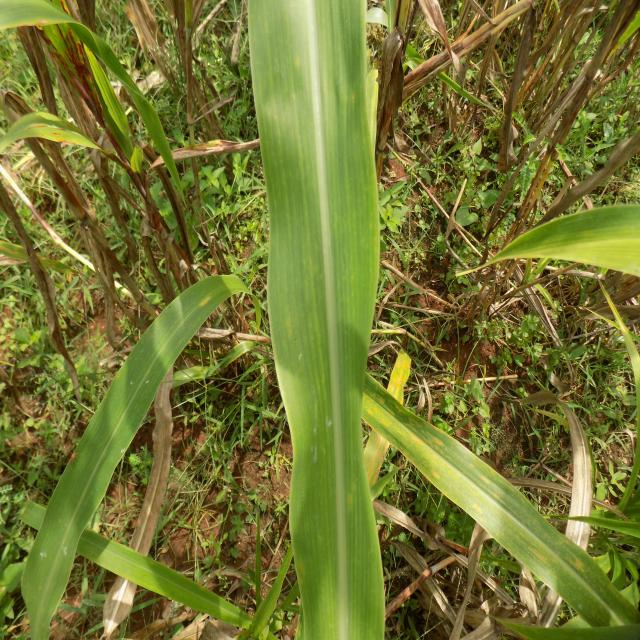millet_healthy: (250, 0, 384, 640), (21, 274, 247, 640), (362, 374, 640, 628), (17, 493, 272, 640), (490, 204, 640, 276)
